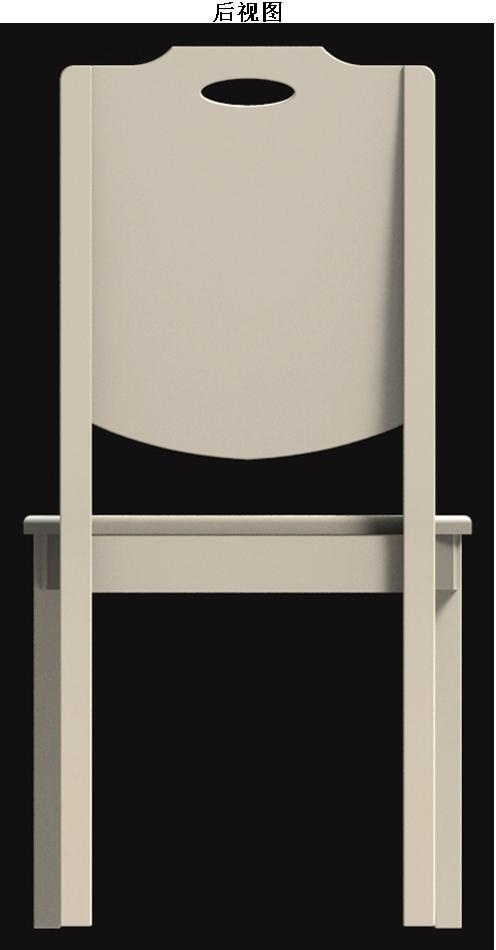obstacle: (30, 47, 468, 927)
